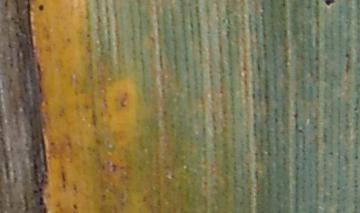tarspot: (322, 1, 337, 8), (36, 3, 45, 11)
